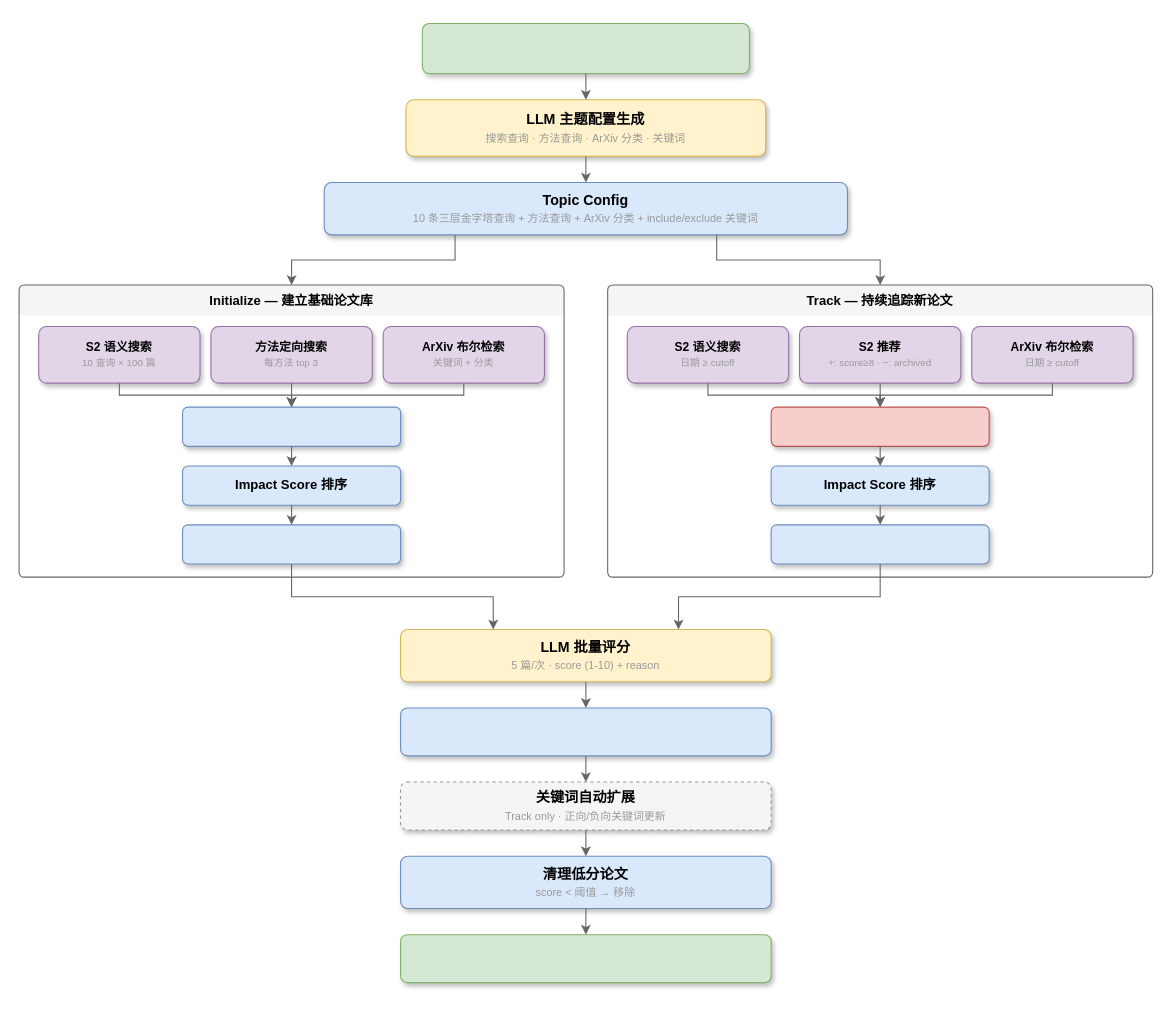
Image size: 1172x1009. Some labels were removed from this diagram. Each missing label, with the centre of its shape:
"Shortlist ~40 篇" goes at point 292,545.
"Top N 选取" goes at point 881,545.
"关键词 Triage" goes at point 881,428.
"去重" goes at point 292,428.
"引文雪球 score ≥ 8 的论文 → 获取 citations → 再评分" goes at point 586,733.
"用户描述研究方向" goes at point 586,49.
"论文集合" goes at point 586,959.
